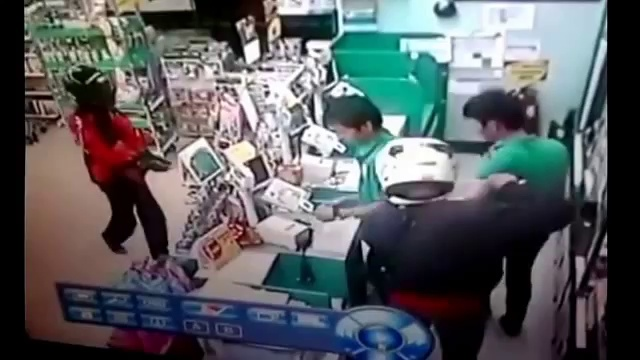helmet: (368, 137, 459, 199), (63, 60, 117, 116)
